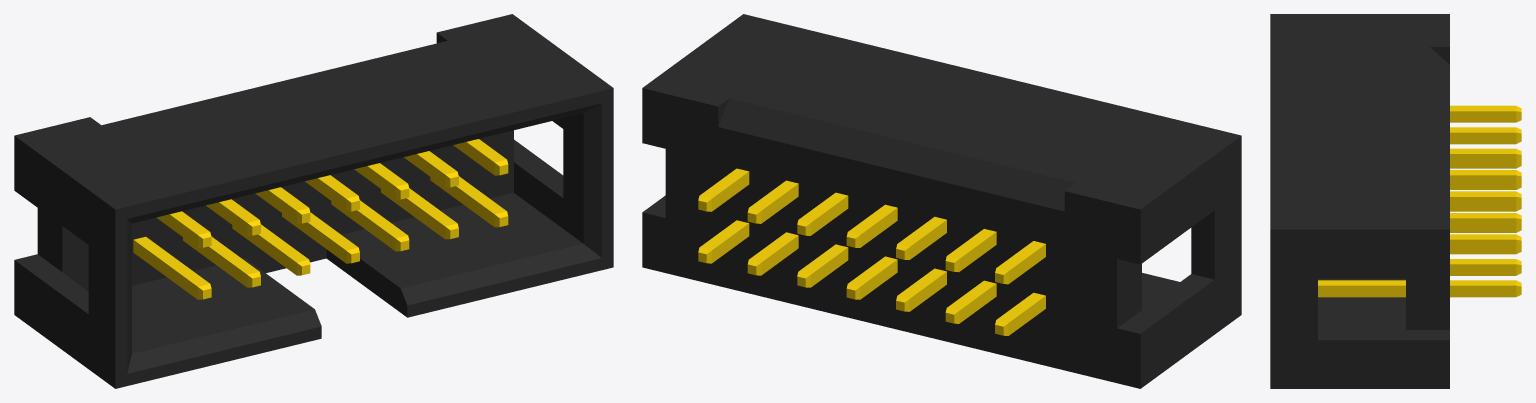
File: DS1013-14S (IDC-14MS CONNFLY).obj
The picture shows the model from 3 angles, left to right: view 1: azimuth 30°, elevation 25°; view 2: azimuth 150°, elevation 25°; view 3: azimuth 270°, elevation 25°; orthographic projection. The views are drawn at different scales.
Visible parts, largest first — view 1: DS1013-14S_(IDC-14MS_CONNFLY); view 2: DS1013-14S_(IDC-14MS_CONNFLY); view 3: DS1013-14S_(IDC-14MS_CONNFLY).
Boxes of the visible parts, x1,y1,x2,y2 form: DS1013-14S_(IDC-14MS_CONNFLY): (14, 14, 613, 388); DS1013-14S_(IDC-14MS_CONNFLY): (642, 14, 1241, 388); DS1013-14S_(IDC-14MS_CONNFLY): (1270, 14, 1521, 388).
Size of the model in its own units: 0.0121 by 0.00421 by 0.00597.
